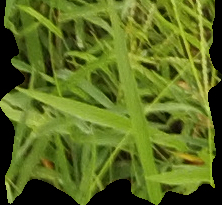grass: (1, 1, 221, 203)
